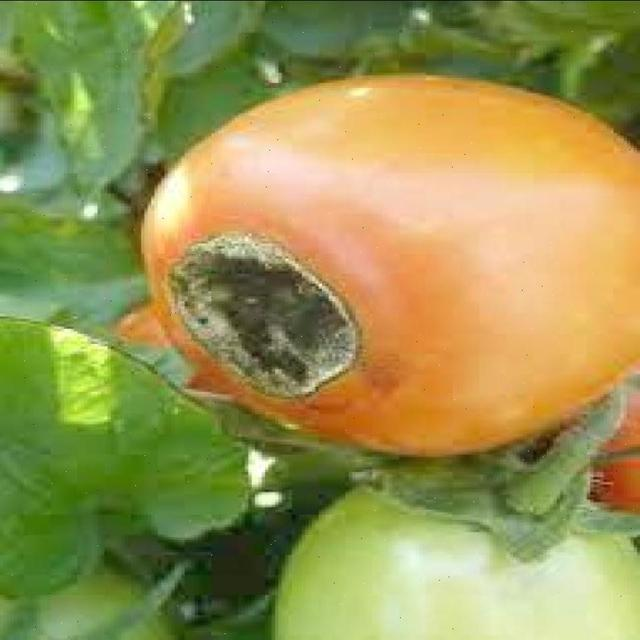Blossom End Rot Fruit: (105, 148, 237, 267)
